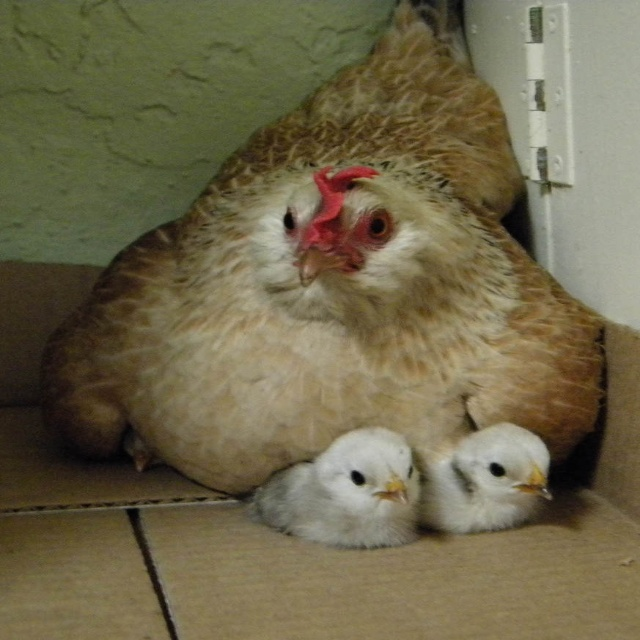Chicken: (28, 4, 607, 496), (240, 425, 421, 548), (419, 420, 552, 535)
